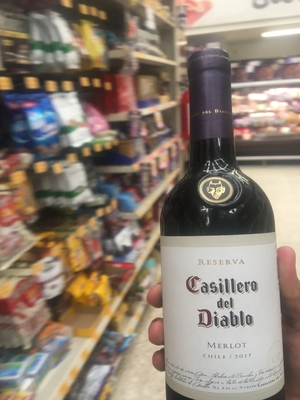casillero del diablo merlot: (160, 45, 287, 400)
